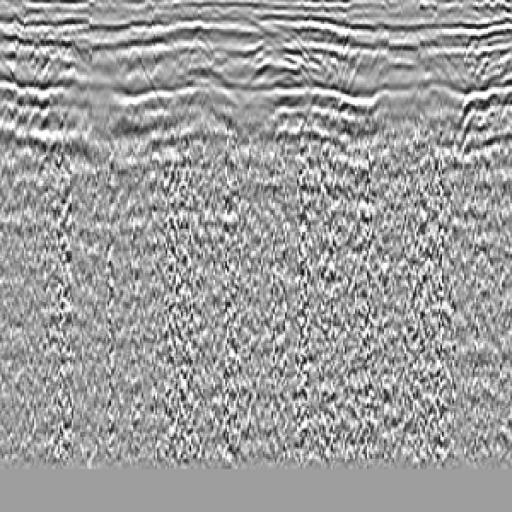non-metallic: (437, 74, 512, 312)
